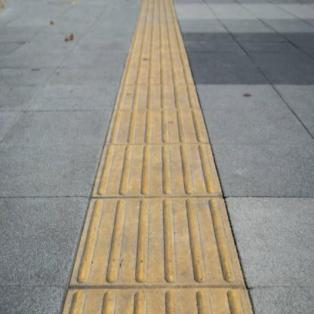Podoctatil: (64, 5, 252, 307)
